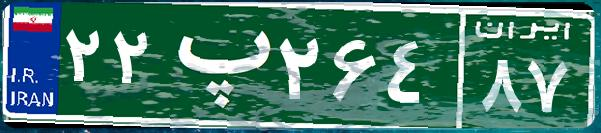2: (273, 28, 330, 110), (57, 26, 110, 107), (110, 28, 158, 105)
4: (385, 28, 445, 110)
6: (330, 28, 385, 110)
7: (525, 38, 570, 115)
8: (475, 38, 525, 113)
پ: (158, 15, 273, 115)
